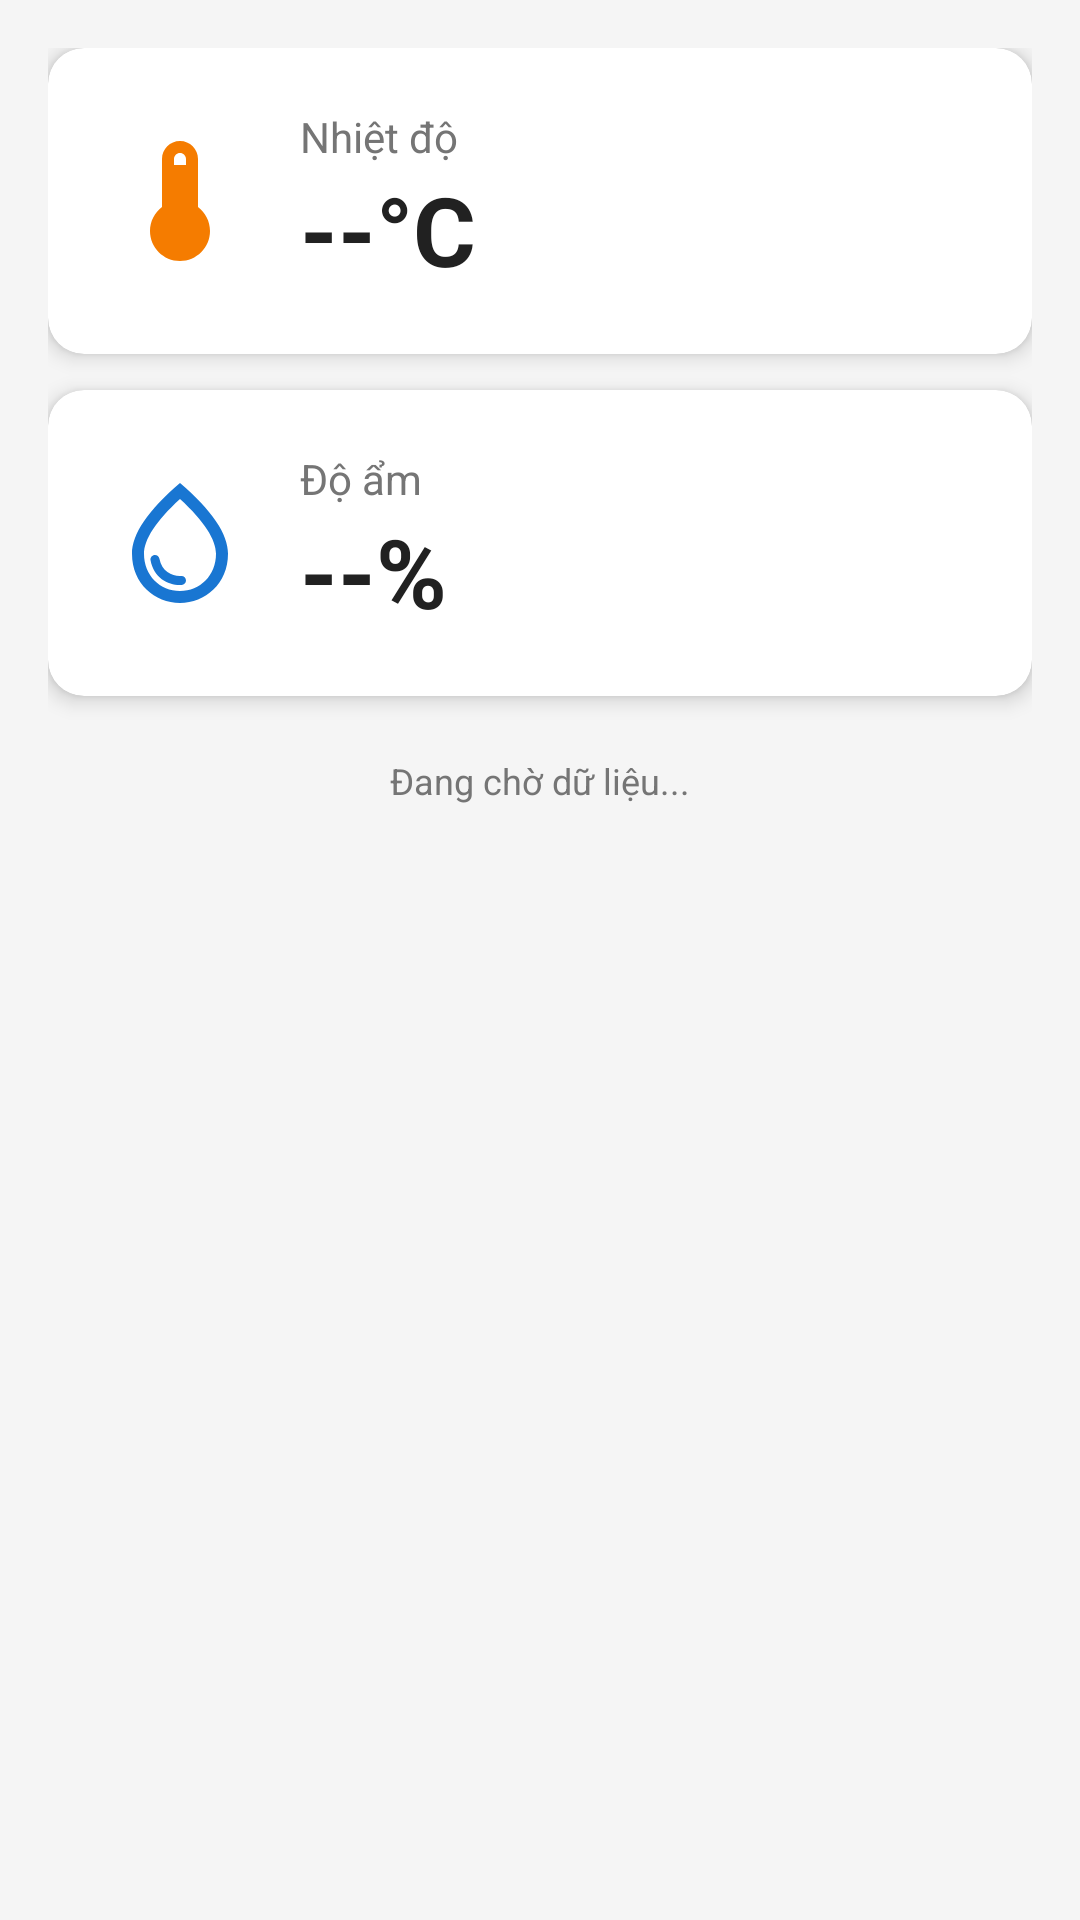

Named icons in this screenshot (1080×1920) and their centers, (x=x, y=y):
Humidity: (x=180, y=543)
Temperature: (x=180, y=201)
